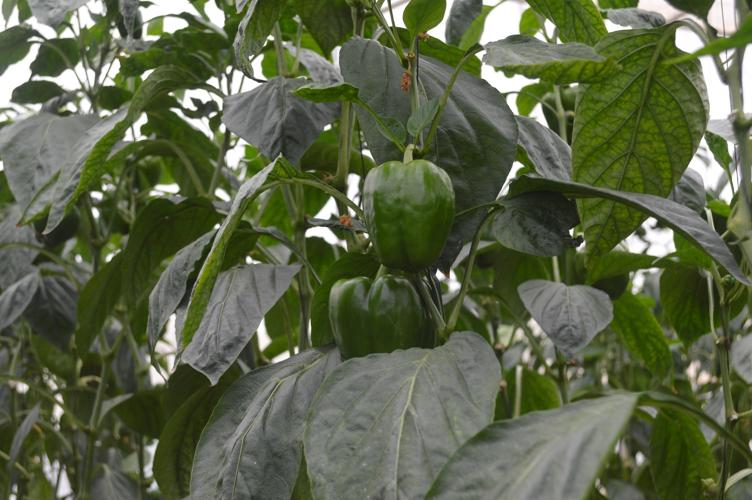BellPepper: (355, 156, 464, 270), (320, 281, 432, 362)
